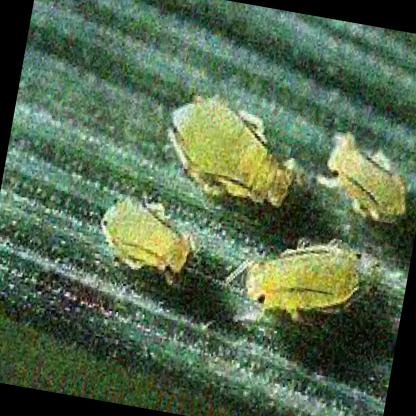schizaphis graminum: (165, 101, 298, 207), (243, 247, 358, 318), (324, 137, 408, 222), (101, 199, 193, 276)
